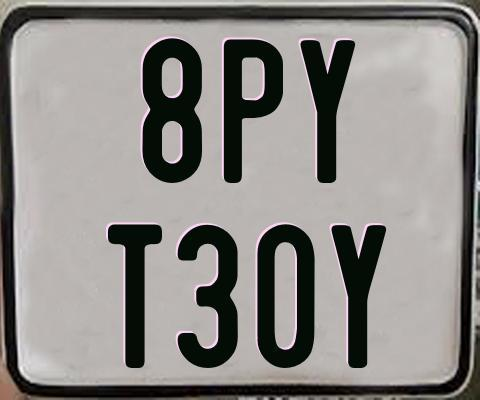0: (256, 222, 317, 366)
3: (177, 225, 240, 370)
8: (142, 36, 208, 182)
P: (223, 37, 286, 184)
T: (107, 221, 162, 365)
Y: (331, 225, 392, 372), (298, 38, 356, 185)
